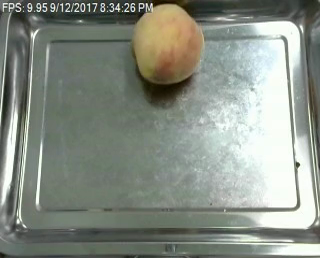Peach: (132, 2, 204, 84)
